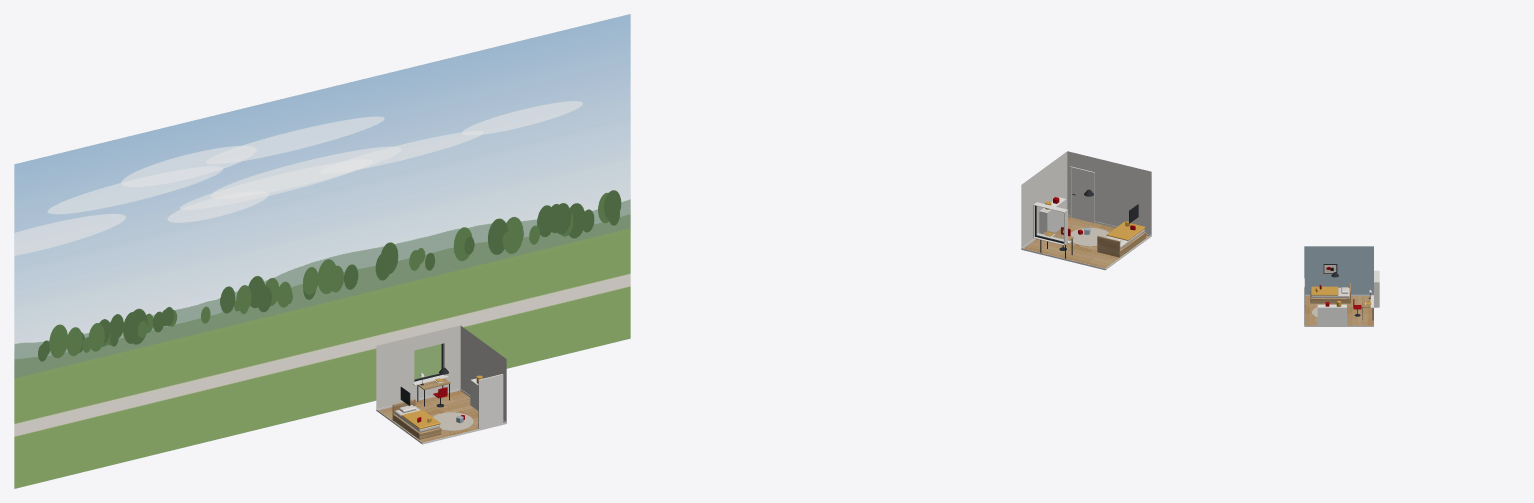
Rendered from kids.glb.
3 views of the same model, side by side, from view 1: azimuth 30°, elevation 25°; view 2: azimuth 150°, elevation 25°; view 3: azimuth 270°, elevation 25° (orthographic). The views are drawn at different scales.
Parts seen in each view (by area): view 1: Mesh_20, kids_baked; view 2: kids_baked; view 3: kids_baked.
Boxes of the visible parts, x1,y1,x2,y2 form: Mesh_20: (14, 14, 630, 488); kids_baked: (376, 325, 506, 444); kids_baked: (1021, 151, 1151, 270); kids_baked: (1304, 246, 1379, 326).
Bounding box in the file's own units: 27.8 × 14 × 11.1.
Materials: 18 (10 with a texture image).
